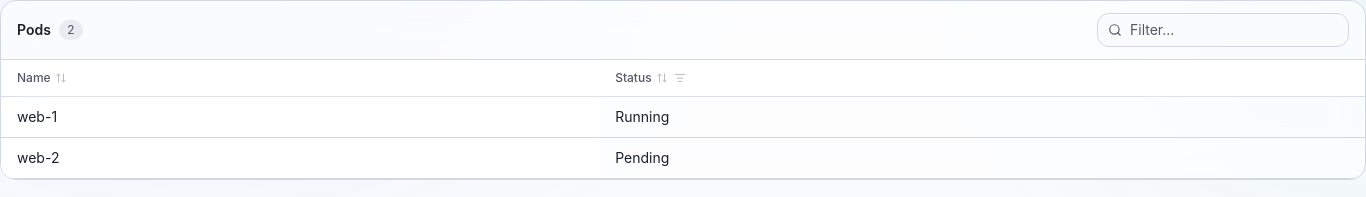
Scenario: DataTable › facet filter › filters rows by a selected facet value and clears it again
Step 1. Click the button titled "Filter column" → click(680, 78), box [672,70,688,86]
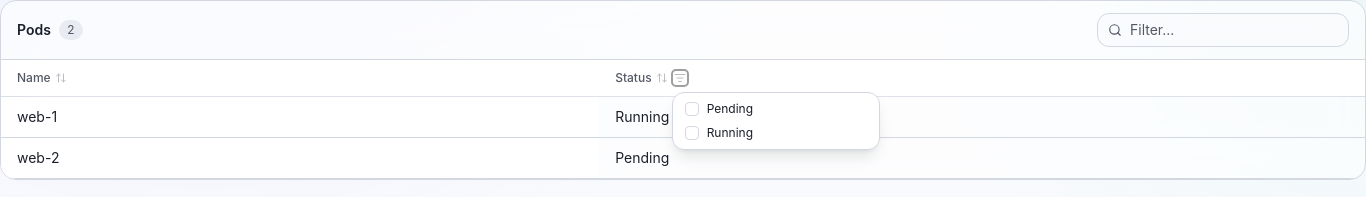
Check: the button "Running" is shown, box [677,121,875,145]
Step 2. Click the button "Pending" → click(776, 109), box [677,97,875,121]
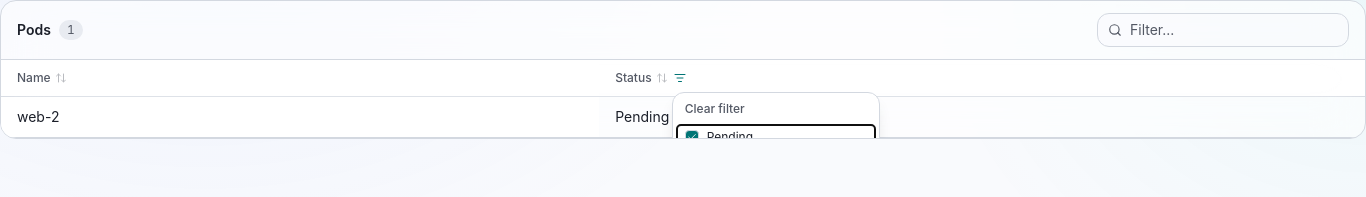
Check: the text "web-2" is shown, box [1,96,599,138]
Check: the text "web-1" is gone
Step 3. Click the button "Clear filter" → click(776, 109), box [677,97,875,121]
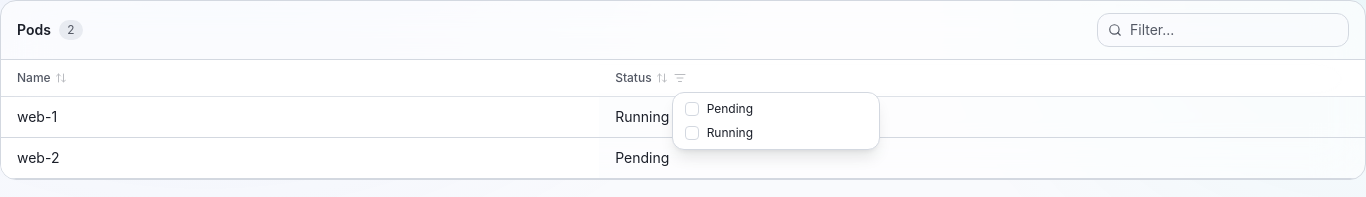
Check: the text "web-2" is shown, box [1,138,599,178]
Check: the text "web-1" is shown, box [1,96,599,138]
